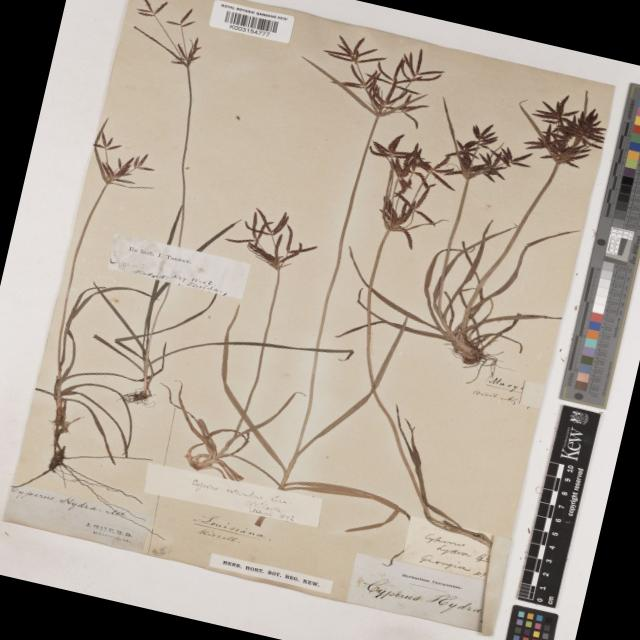cyperus: (316, 28, 454, 132), (352, 136, 464, 242), (502, 81, 614, 178), (113, 0, 223, 80), (80, 120, 164, 204), (228, 199, 318, 274), (435, 116, 523, 189)
